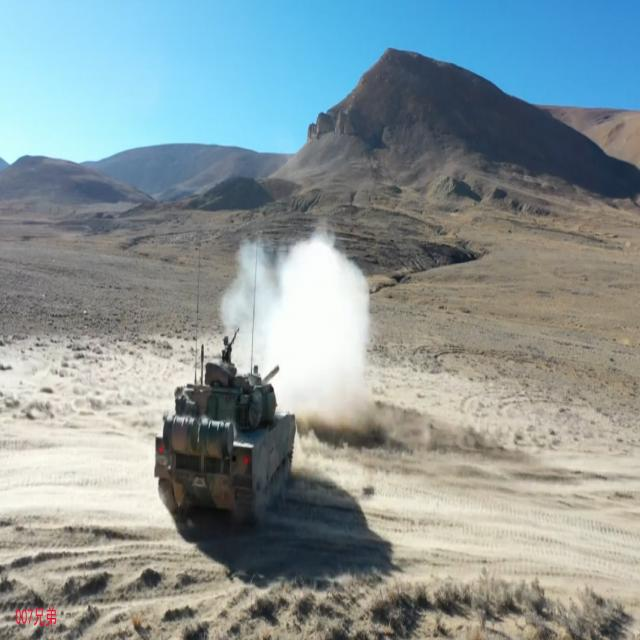tank: (154, 327, 297, 534)
